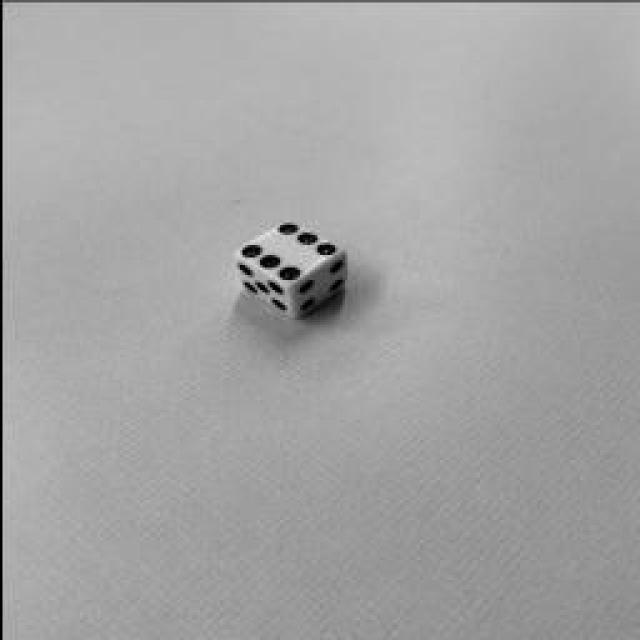dice_6: (232, 220, 340, 285)
